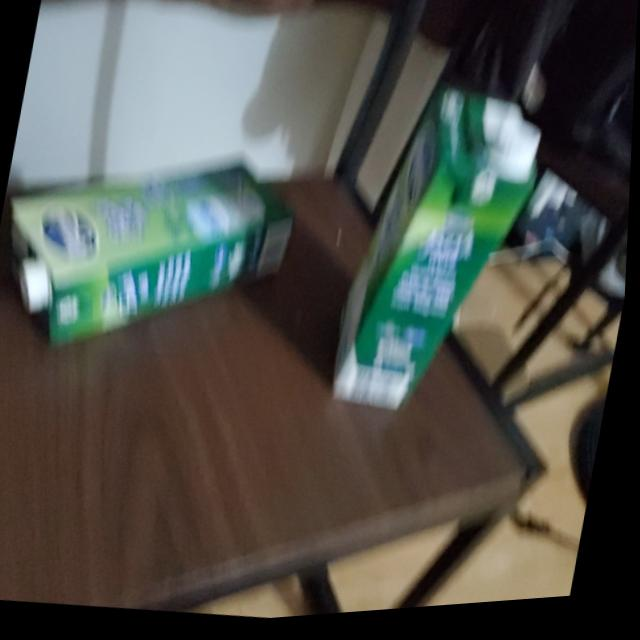milk: (327, 78, 557, 432), (0, 130, 305, 387)
